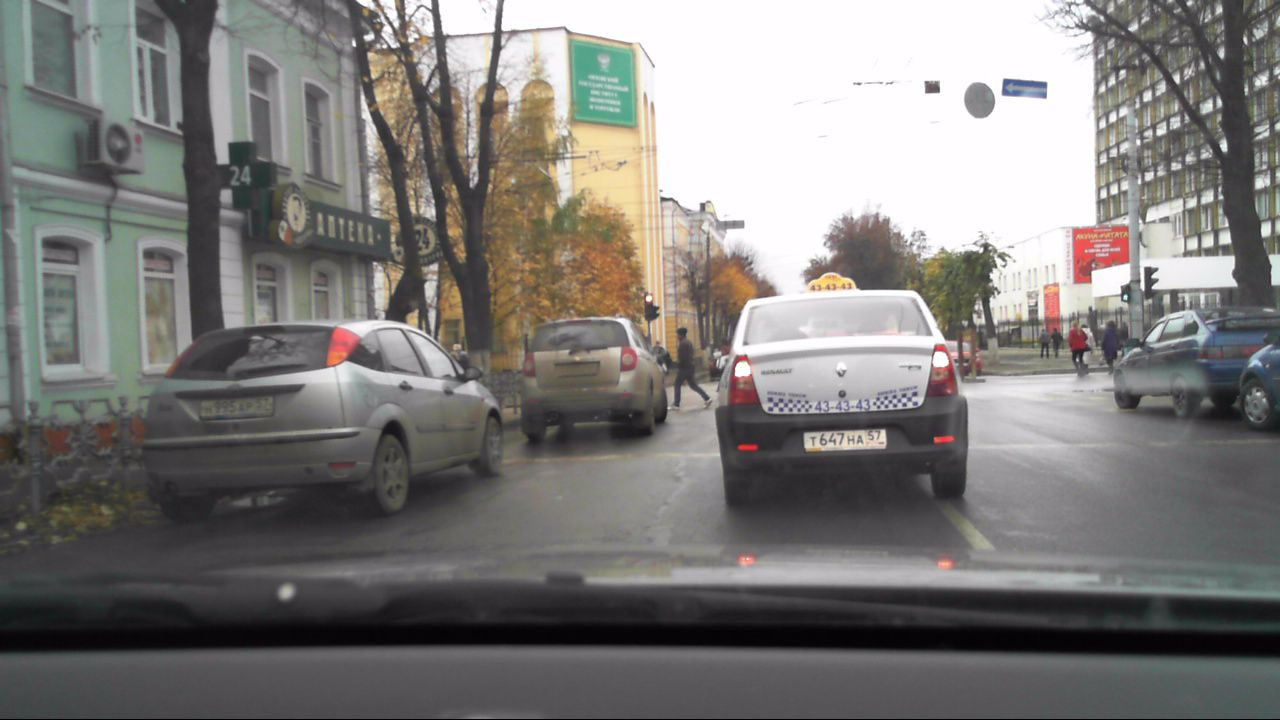One-Way Traffic: (1001, 78, 1047, 98)
